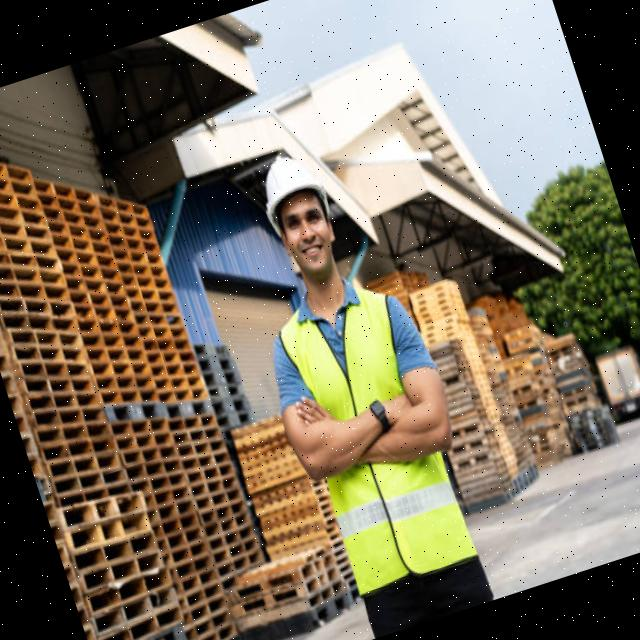Wooden-Pallets: (48, 480, 159, 549), (230, 559, 305, 615), (232, 580, 315, 623), (106, 188, 154, 222), (0, 157, 45, 188)
